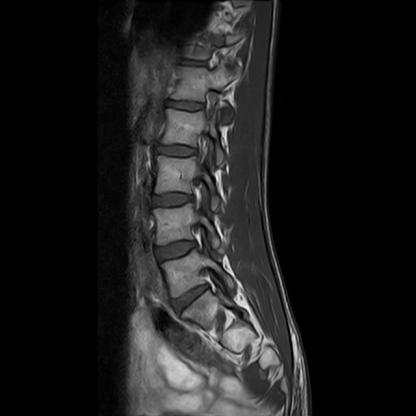Degenerative Disc Diseaserotation: (169, 287, 217, 312)
Disc Bulgerotation: (169, 288, 217, 312)
